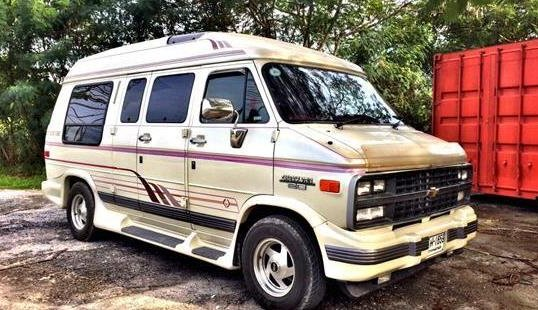van: (41, 29, 480, 306)
